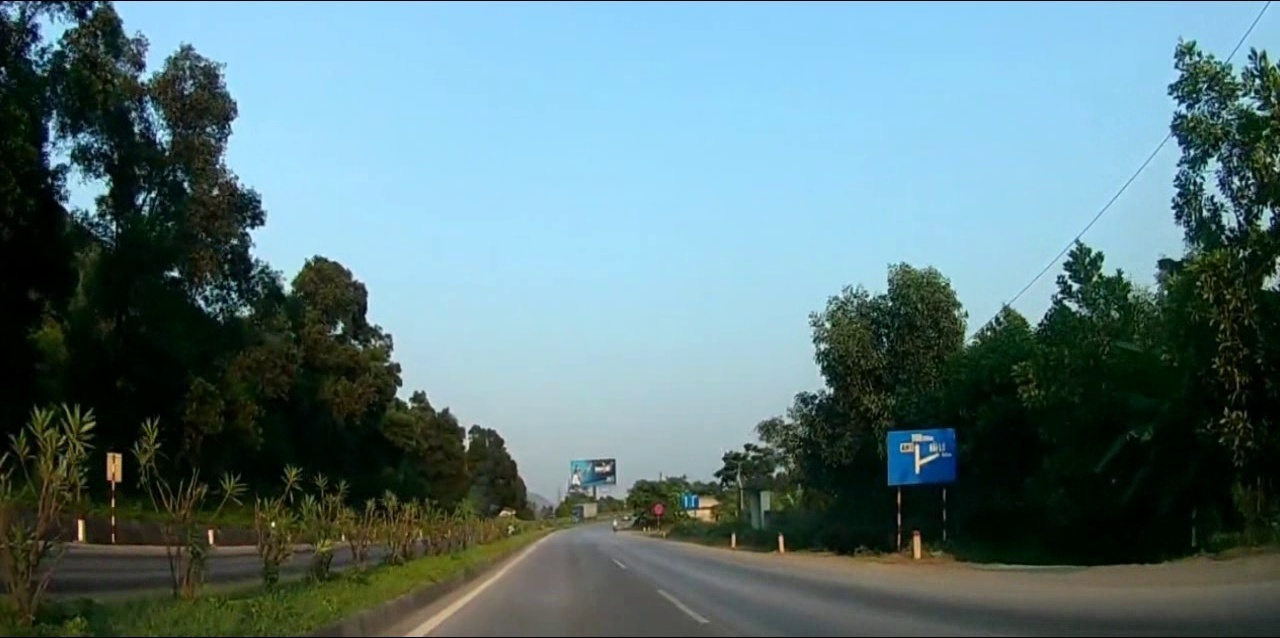Bien khac: (887, 423, 962, 481), (680, 494, 701, 509)
